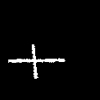single_crochet: (8, 45, 64, 78)
